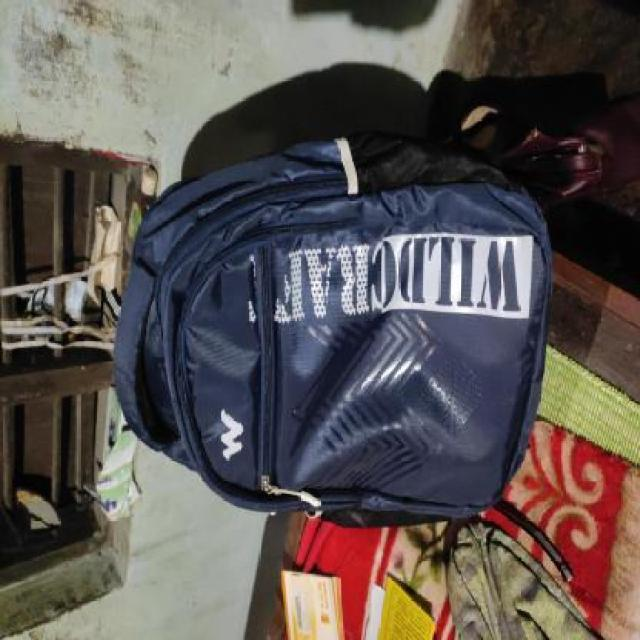backpack: (108, 123, 555, 532)
